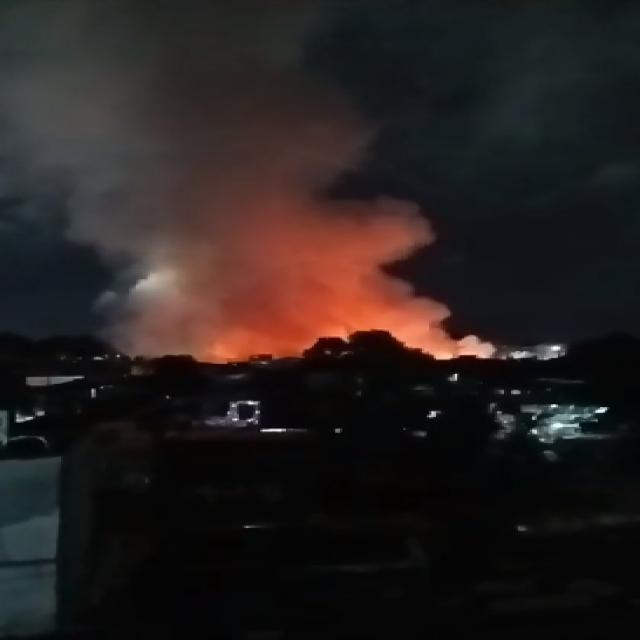Fire: (383, 326, 473, 366)
Smoke: (0, 0, 499, 369)
